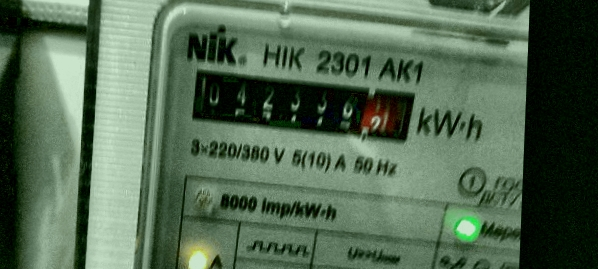0: (206, 78, 221, 107)
2: (258, 82, 277, 110)
3: (285, 83, 302, 113), (314, 85, 329, 114)
4: (232, 80, 250, 108)
6: (339, 92, 355, 120)
screen: (180, 60, 423, 150)
